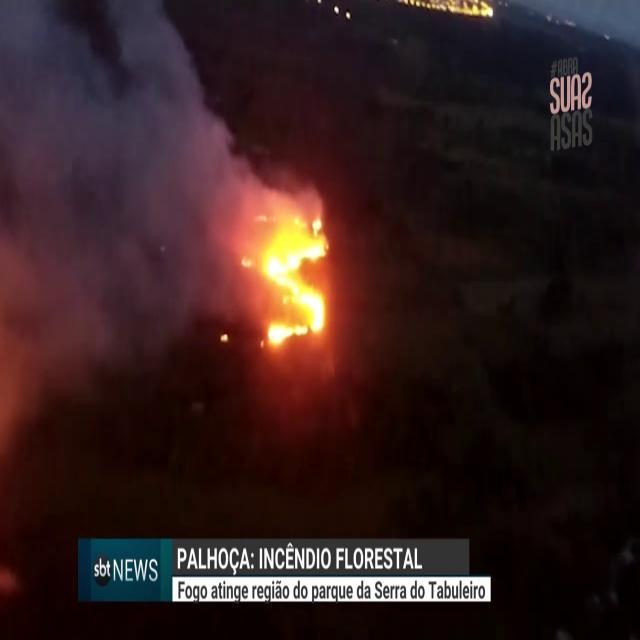Fire: (256, 224, 328, 340), (270, 318, 308, 350), (405, 2, 493, 15), (311, 208, 324, 232), (220, 326, 228, 344), (258, 338, 264, 352)
Smoke: (106, 0, 200, 84), (232, 147, 324, 205), (116, 228, 162, 330)
